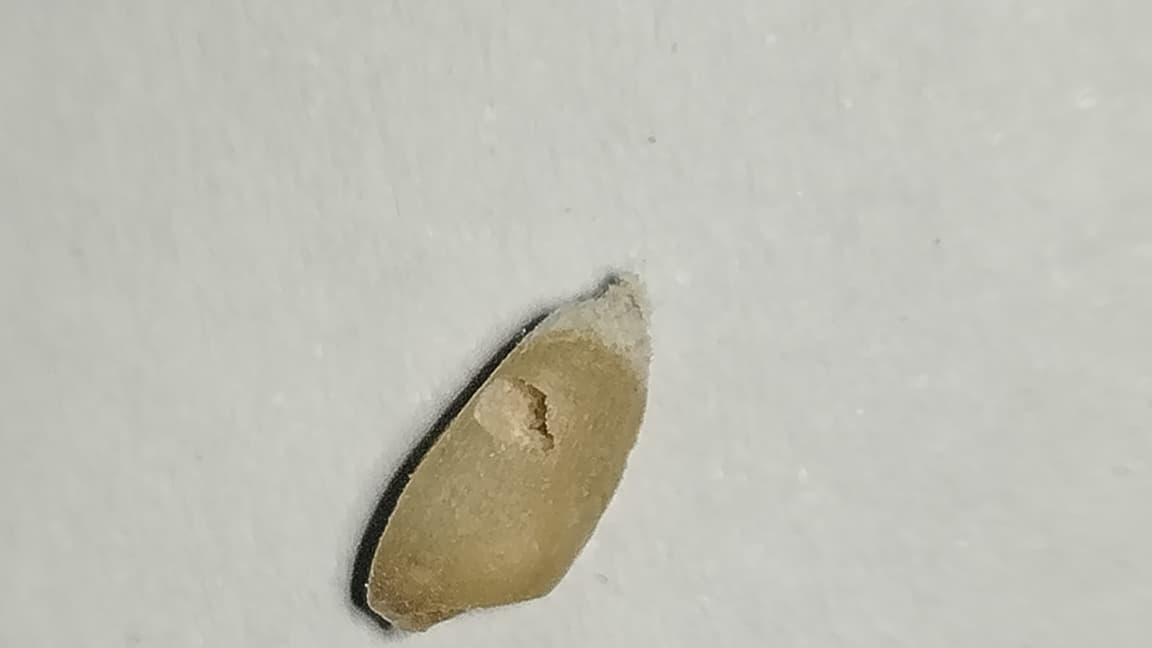damage: (351, 275, 648, 630)
insectdamage: (463, 368, 571, 464)
